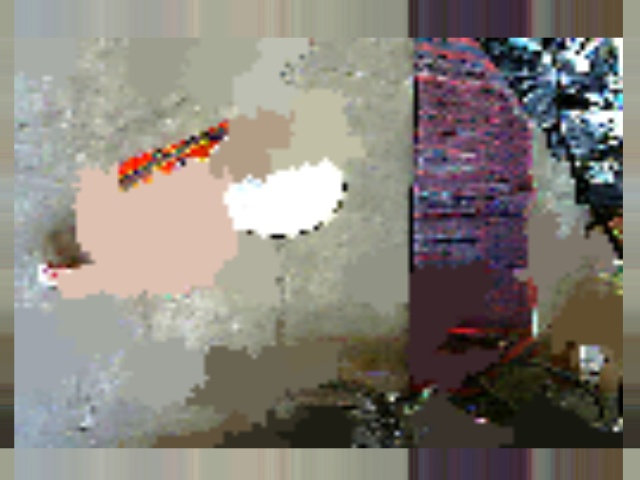eight: (228, 148, 268, 194)
